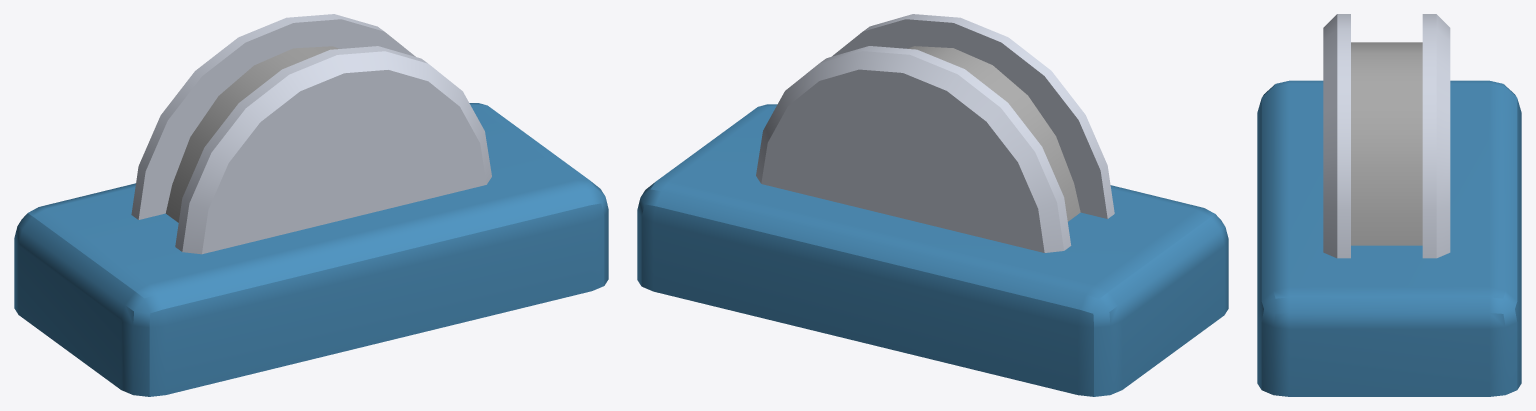
File: lever_floor.fbx
The picture shows the model from 3 angles, left to right: view 1: azimuth 30°, elevation 25°; view 2: azimuth 150°, elevation 25°; view 3: azimuth 270°, elevation 25°; orthographic projection. The views are drawn at different scales.
Visible parts, largest first — view 1: lever_floor; view 2: lever_floor; view 3: lever_floor.
Part boxes in pixels (<box>): lever_floor: <box>14,14,608,396</box>; lever_floor: <box>637,14,1228,396</box>; lever_floor: <box>1257,14,1521,396</box>.
Size of the model in its own units: 0.6215 by 0.3176 by 0.3015.
